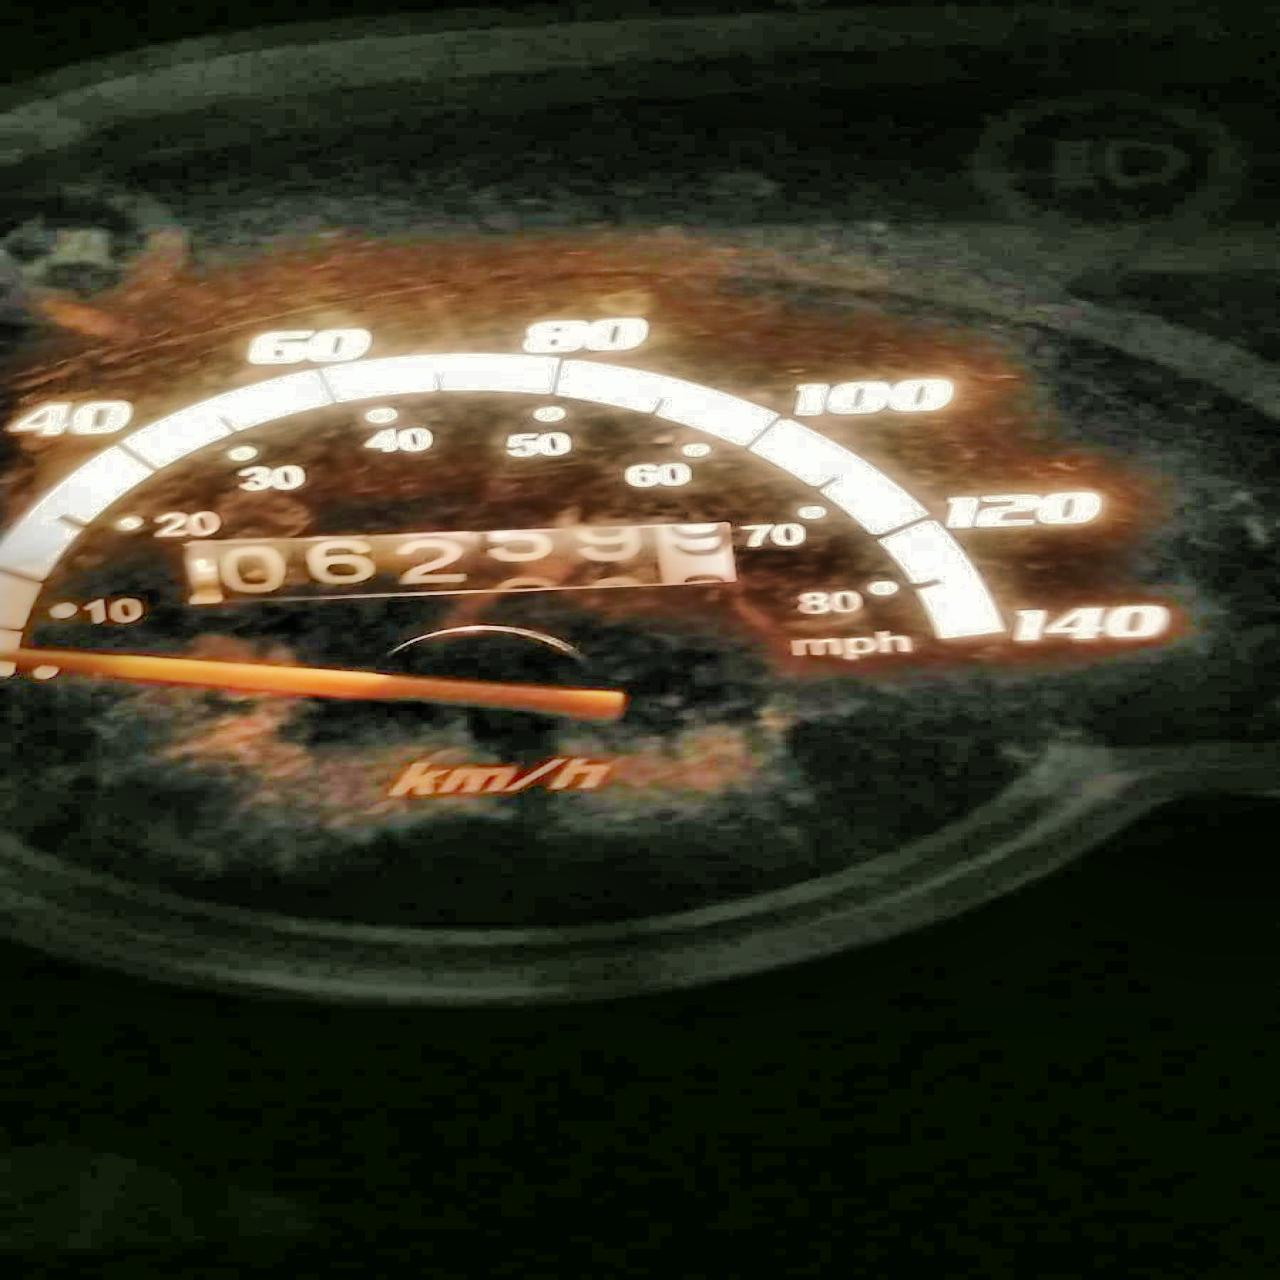0: (216, 544, 287, 593), (188, 509, 222, 536)
2: (393, 538, 470, 585)
5: (484, 526, 564, 564)
6: (304, 536, 379, 585)
7: (738, 524, 769, 546)
9: (576, 523, 647, 563), (663, 519, 735, 557)
odometer: (172, 512, 762, 605)
